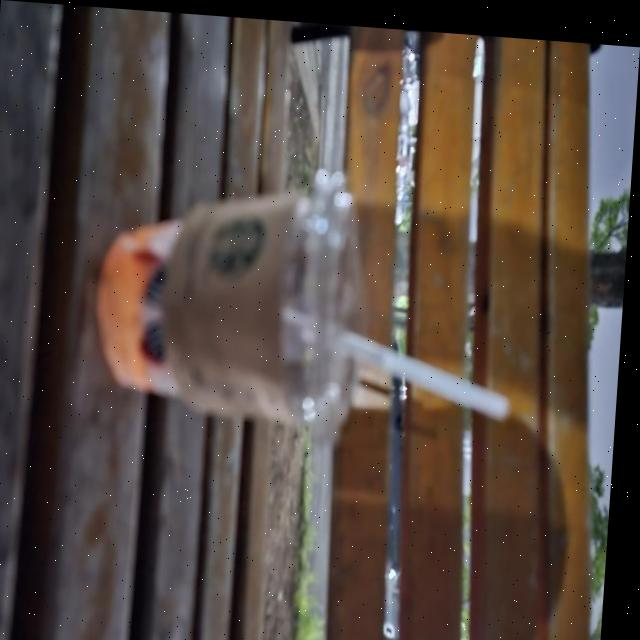cup: (88, 147, 381, 453)
